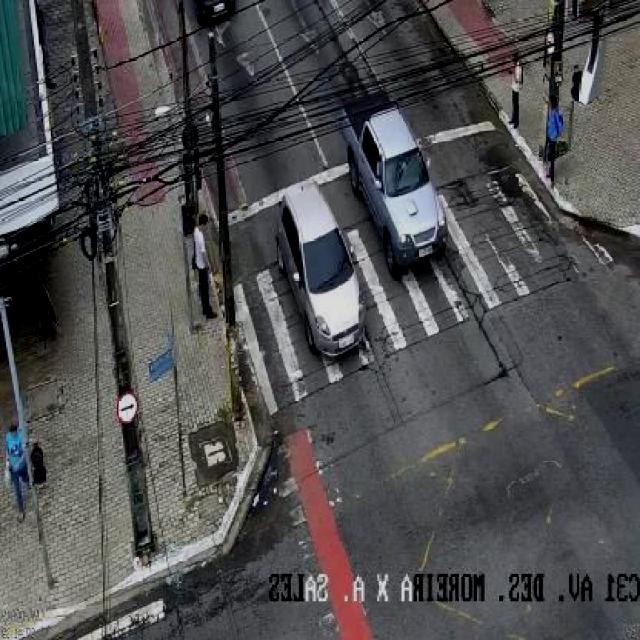Car: (278, 175, 374, 360)
Truck: (339, 87, 456, 270)
